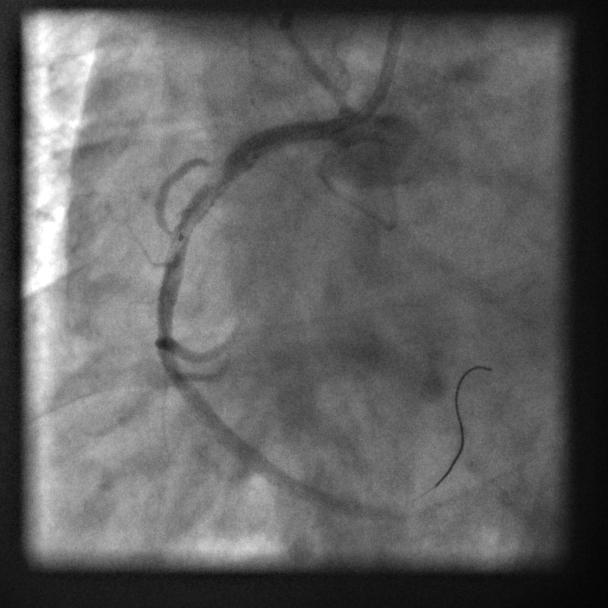Stenosis: (201, 156, 247, 213)
